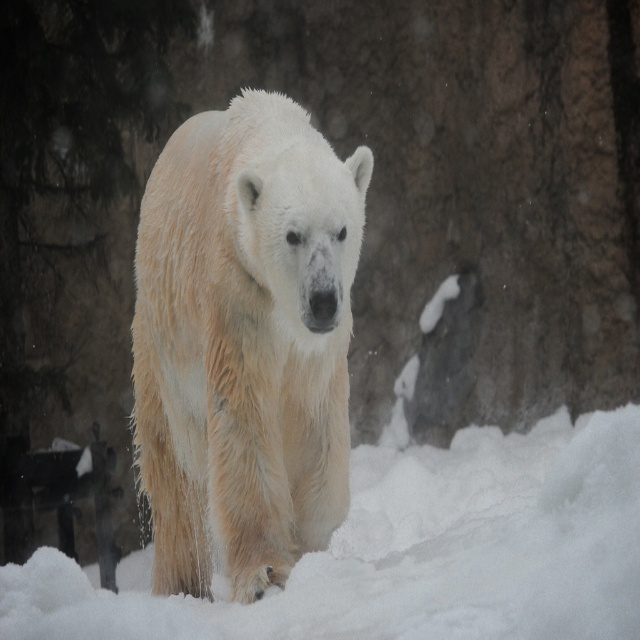Polar bear: (125, 86, 374, 604)
